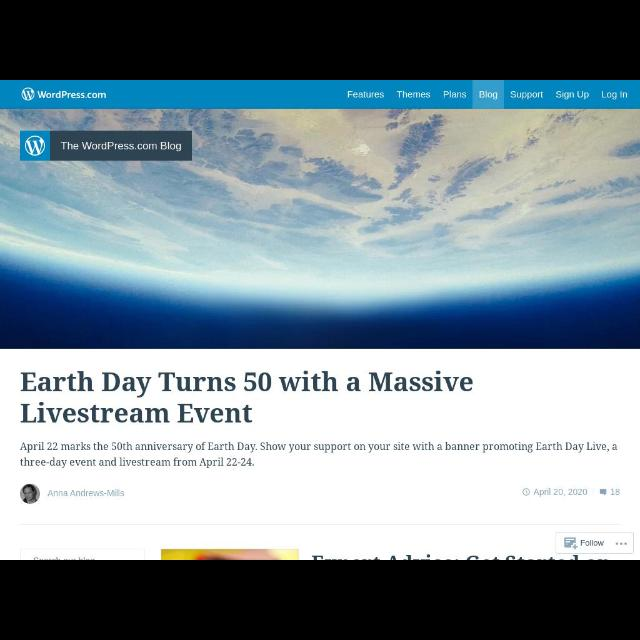icon: (561, 535, 577, 549), (614, 538, 630, 548), (520, 485, 532, 497), (600, 485, 608, 497)
image: (1, 110, 639, 348), (20, 86, 108, 102), (18, 484, 42, 506)
text: (17, 371, 479, 427), (18, 438, 620, 468), (46, 488, 126, 498), (532, 486, 590, 498), (396, 88, 432, 102), (554, 88, 590, 102), (347, 88, 385, 100), (510, 90, 544, 100), (600, 88, 628, 100), (476, 88, 498, 100), (579, 538, 605, 548), (442, 90, 468, 98), (610, 487, 622, 498)
textbutton: (556, 532, 632, 554)
toolbar: (1, 82, 640, 108)
